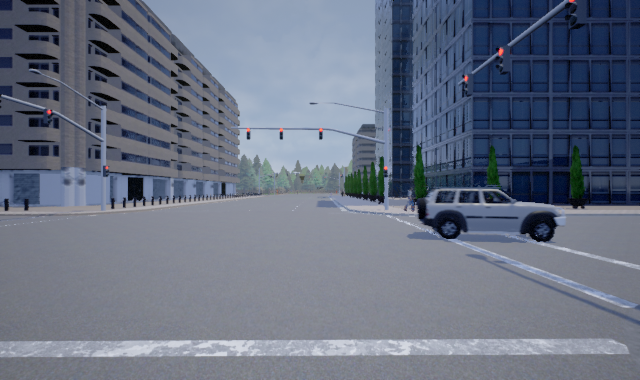pedestrian: (404, 185, 415, 211)
vehicle: (416, 187, 565, 241)
